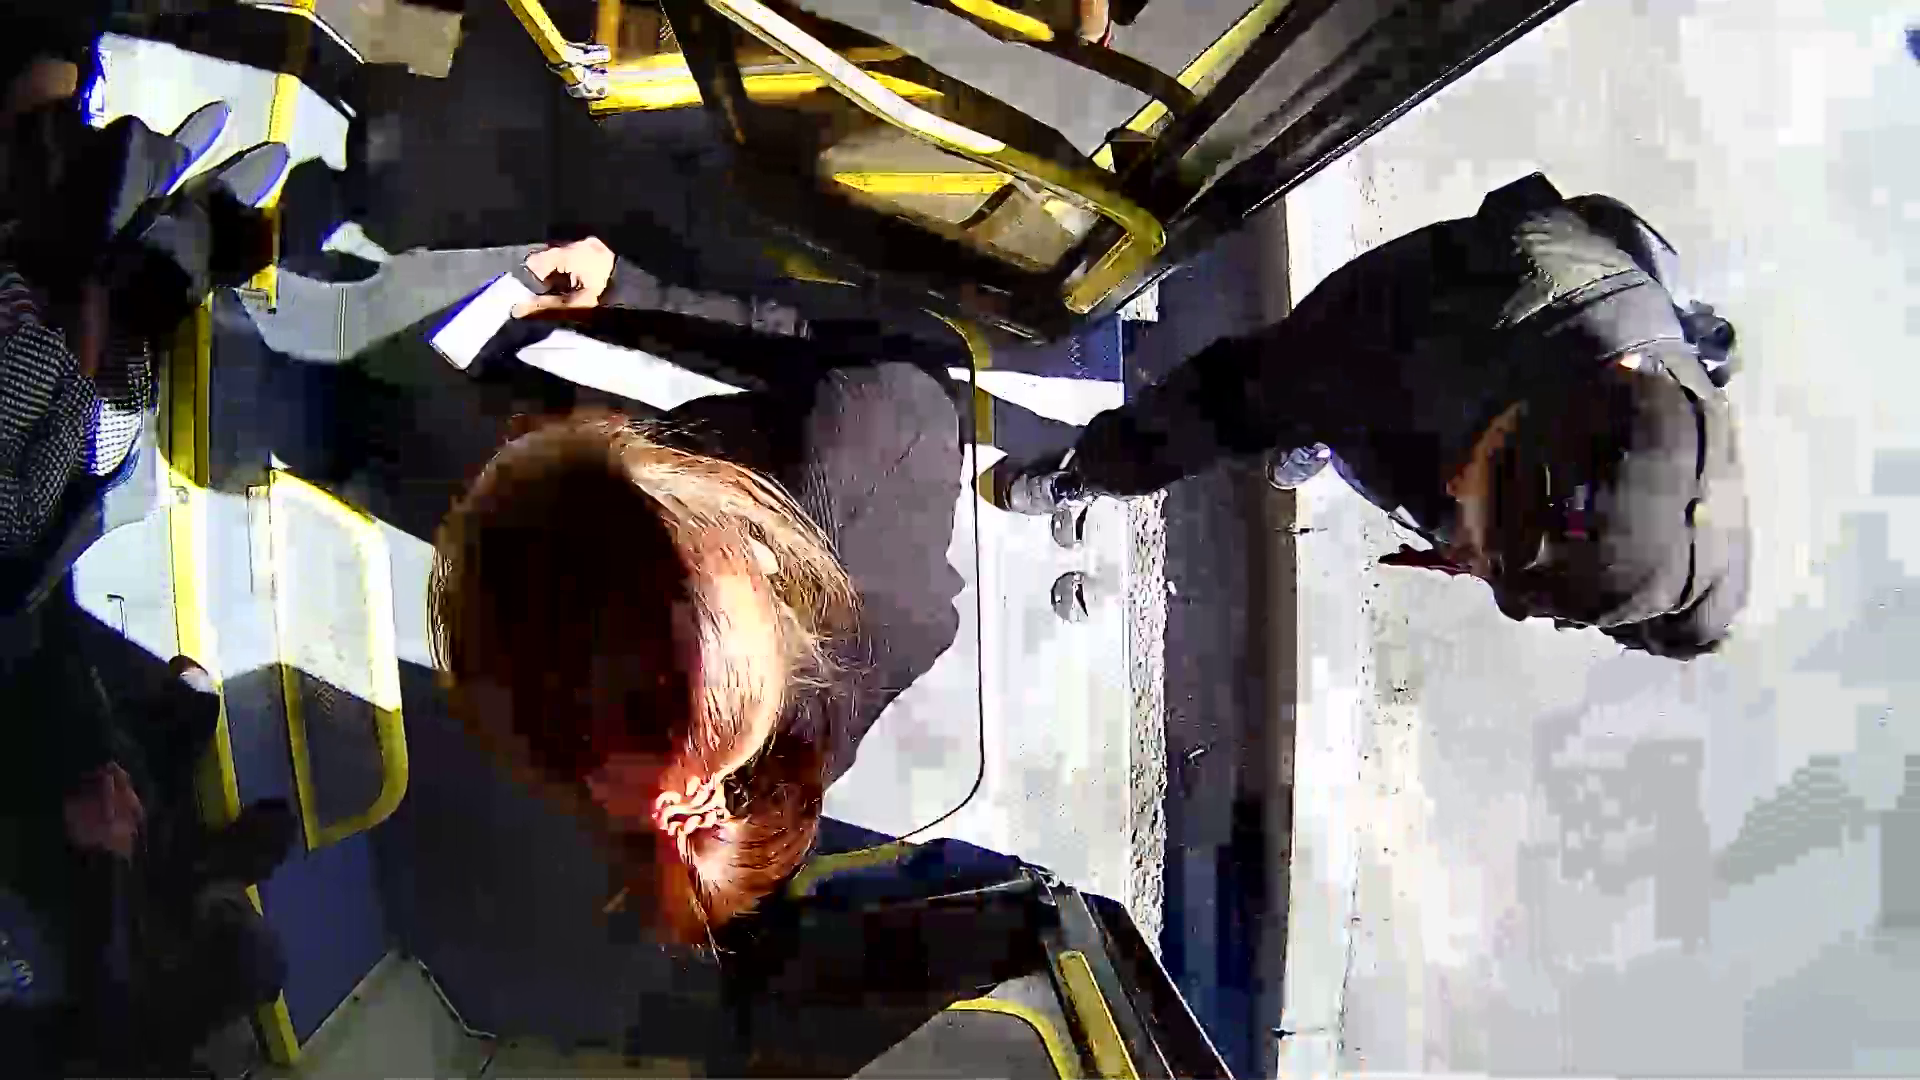person: (338, 301, 1030, 944)
